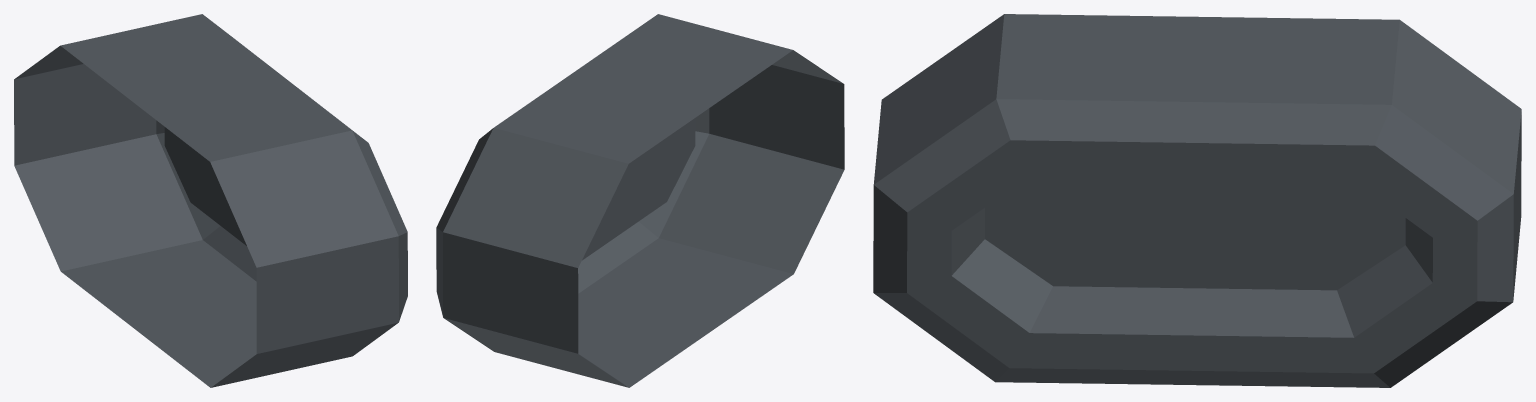
The model's file is Personal_Vehicle_02_Detail_2_Yellow.fbx.
3 renders of one model, left to right at view 1: azimuth 30°, elevation 25°; view 2: azimuth 150°, elevation 25°; view 3: azimuth 270°, elevation 25°, orthographic. The views are drawn at different scales.
Visible parts, largest first — view 1: Personal_Vehicle_02_Detail_2_Yellow; view 2: Personal_Vehicle_02_Detail_2_Yellow; view 3: Personal_Vehicle_02_Detail_2_Yellow.
Boxes of the visible parts, box(x1,y1,x2,y2) form: Personal_Vehicle_02_Detail_2_Yellow: box(14, 14, 407, 387); Personal_Vehicle_02_Detail_2_Yellow: box(436, 14, 844, 387); Personal_Vehicle_02_Detail_2_Yellow: box(873, 14, 1521, 387).
Bounding box in the file's own units: 7.21 × 9.04 × 18.7.
1 material, 1 textured.
